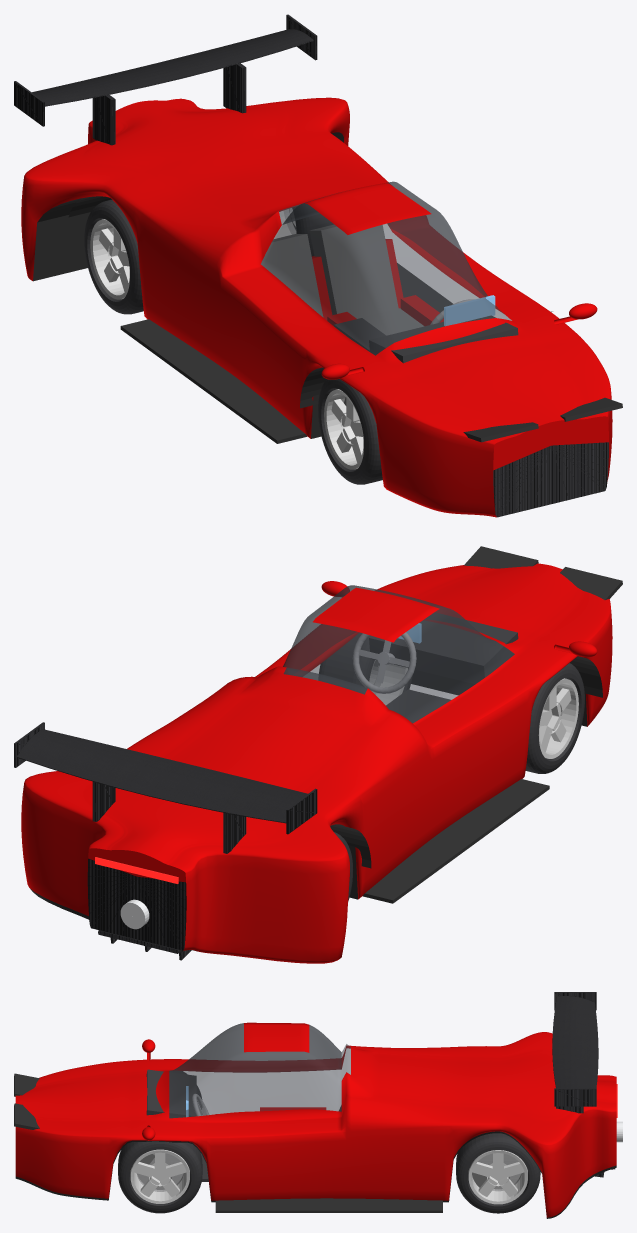
Rendered from ferrari-f40.glb.
The picture shows the model from 3 angles, top to bottom: view 1: azimuth 30°, elevation 25°; view 2: azimuth 150°, elevation 25°; view 3: azimuth 270°, elevation 25°; orthographic projection. The views are drawn at different scales.
Visible parts, largest first — view 1: Body_PrimaryPaint, Glass_Windows, Carbon_Exterior, Interior_Seats, WheelWells, Underbody, Tire_FR, Tire_RR, Rim_FR, Rim_RR, Interior_SeatBolsters, Interior_Dashboard (+3 smaller); view 2: Body_PrimaryPaint, Carbon_Exterior, Glass_Windows, WheelWells, Interior_Dashboard, Rim_FR, Tire_FR, Lights_Housings, Interior_SteeringWheel, Tire_FL, Underbody, Interior_Tub (+3 smaller); view 3: Body_PrimaryPaint, Glass_Windows, Carbon_Exterior, WheelWells, Tire_RL, Tire_FL, Rim_FL, Rim_RL, Interior_Dashboard, Underbody, Lights_Housings, BrakeDisc_FL (+1 smaller).
Boxes of the visible parts, <box> form: Body_PrimaryPaint: <box>21,97,612,517</box>; Glass_Windows: <box>261,181,511,355</box>; Carbon_Exterior: <box>14,14,608,517</box>; Interior_Seats: <box>261,224,423,335</box>; WheelWells: <box>68,196,552,443</box>; Underbody: <box>33,132,343,438</box>; Tire_FR: <box>318,379,382,484</box>; Tire_RR: <box>84,199,143,314</box>; Rim_FR: <box>324,389,363,469</box>; Rim_RR: <box>90,219,129,299</box>; Interior_SeatBolsters: <box>312,239,443,325</box>; Interior_Dashboard: <box>369,315,518,363</box>; Body_PrimaryPaint: <box>21,563,612,963</box>; Carbon_Exterior: <box>14,722,317,960</box>; Glass_Windows: <box>283,585,514,723</box>; WheelWells: <box>330,656,602,903</box>; Interior_Dashboard: <box>369,613,518,684</box>; Rim_FR: <box>538,678,578,758</box>; Tire_FR: <box>525,663,584,773</box>; Lights_Housings: <box>464,546,622,599</box>; Interior_SteeringWheel: <box>352,632,416,693</box>; Tire_FL: <box>319,632,412,693</box>; Underbody: <box>30,669,587,951</box>; Interior_Tub: <box>386,689,450,712</box>; Body_PrimaryPaint: <box>15,1022,616,1217</box>; Glass_Windows: <box>169,1023,350,1118</box>; Carbon_Exterior: <box>552,992,615,1177</box>; WheelWells: <box>215,1114,442,1212</box>; Tire_RL: <box>456,1133,540,1213</box>; Tire_FL: <box>118,1141,202,1213</box>; Rim_FL: <box>130,1149,189,1203</box>; Rim_RL: <box>468,1150,527,1204</box>; Interior_Dashboard: <box>146,1069,196,1118</box>; Underbody: <box>15,1131,616,1218</box>; Lights_Housings: <box>14,1073,39,1129</box>; BrakeDisc_FL: <box>136,1153,183,1191</box>.
Bounding box in the file's own units: 1.98 × 1.12 × 4.41.
Materials: 16 (2 with a texture image).
